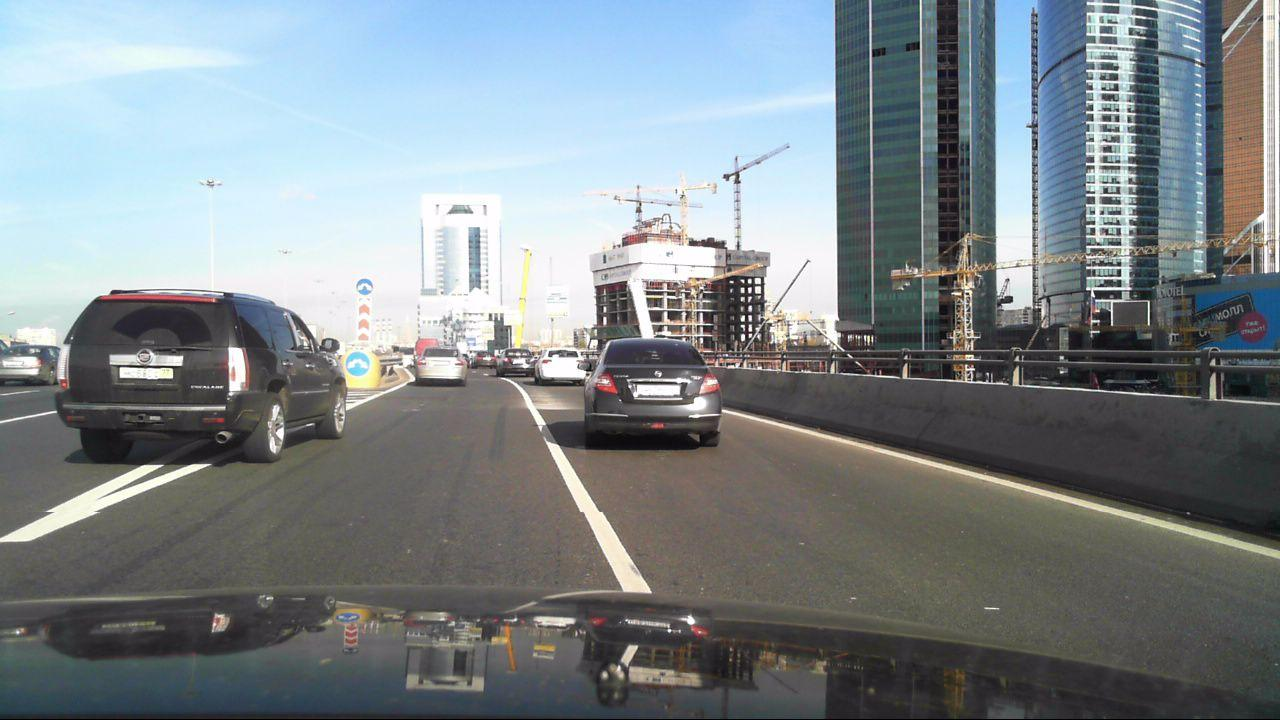4_2_3: (343, 350, 372, 378), (355, 278, 375, 296)
8_22_3: (357, 296, 373, 344)
